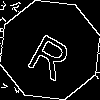R: (25, 25, 78, 82)
